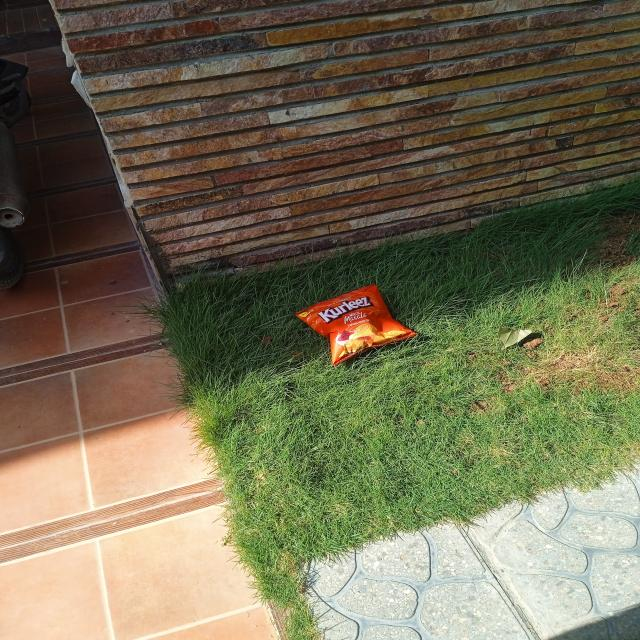Plastic: (294, 282, 416, 364)
